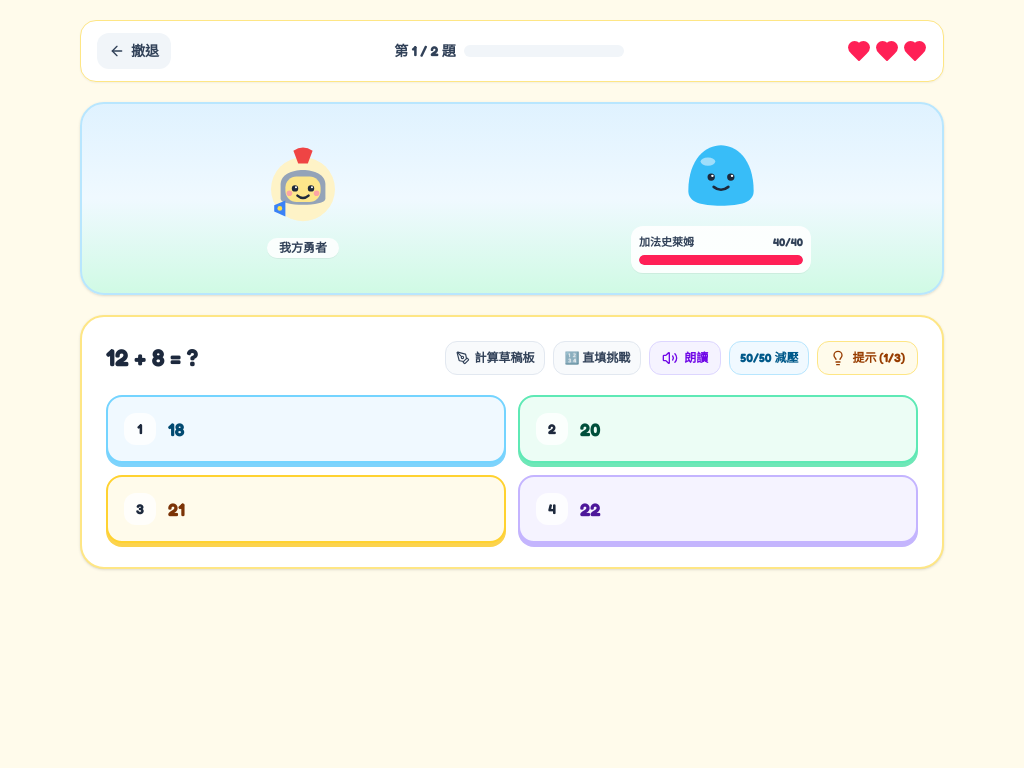
Test: Engagement, Hanzi & Deep Teaching Features › BattleArena offers Just-In-Time concept review button when answered wrong
// Pick wrong option '18'
Click the button "1 18".
click(140, 428)  # box 106,394 -> 506,462
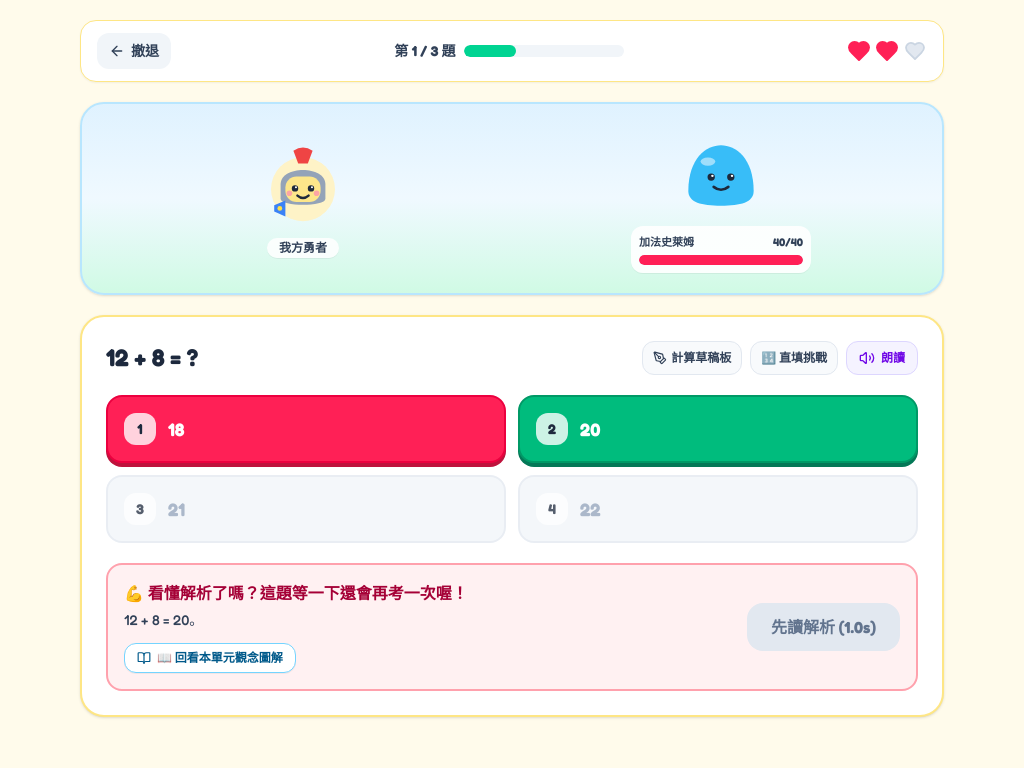
Expected: the button "📖 回看本單元觀念圖解" is shown, 124,643 -> 296,673
